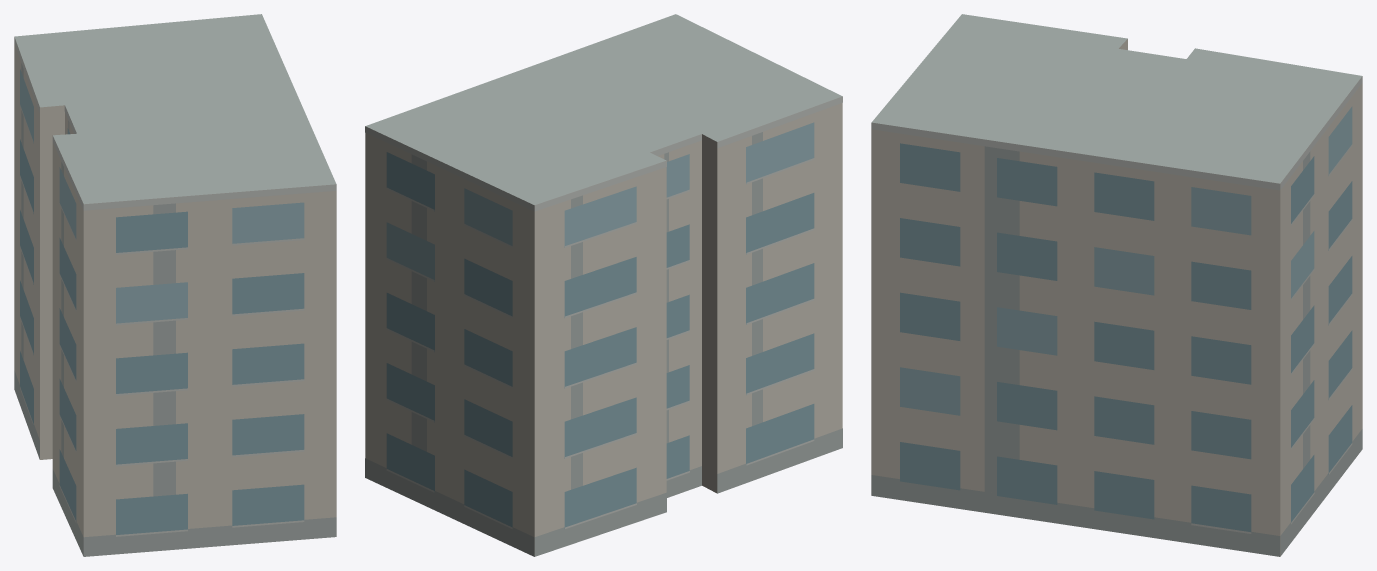
File: survey-upis-32893669.glb
3 views of the same model, side by side, from view 1: azimuth 30°, elevation 25°; view 2: azimuth 150°, elevation 25°; view 3: azimuth 270°, elevation 25° (orthographic). The views are drawn at different scales.
Parts seen in each view (by area): view 1: survey-upis-32893669.tmp; view 2: survey-upis-32893669.tmp; view 3: survey-upis-32893669.tmp.
Boxes of the visible parts, bbox=[...] form: survey-upis-32893669.tmp: bbox=[14, 14, 336, 556]; survey-upis-32893669.tmp: bbox=[365, 14, 842, 556]; survey-upis-32893669.tmp: bbox=[871, 14, 1362, 556].
Bounding box in the file's own units: 12.98 × 13.3 × 15.87.
